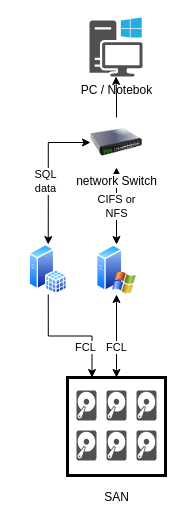
Some shapes in this 184 by 529 pixel diagram are drawn without their labels. Each missing label, with the box of its shape:
Server: (96, 244, 136, 294)
SQL Server: (28, 244, 67, 294)
